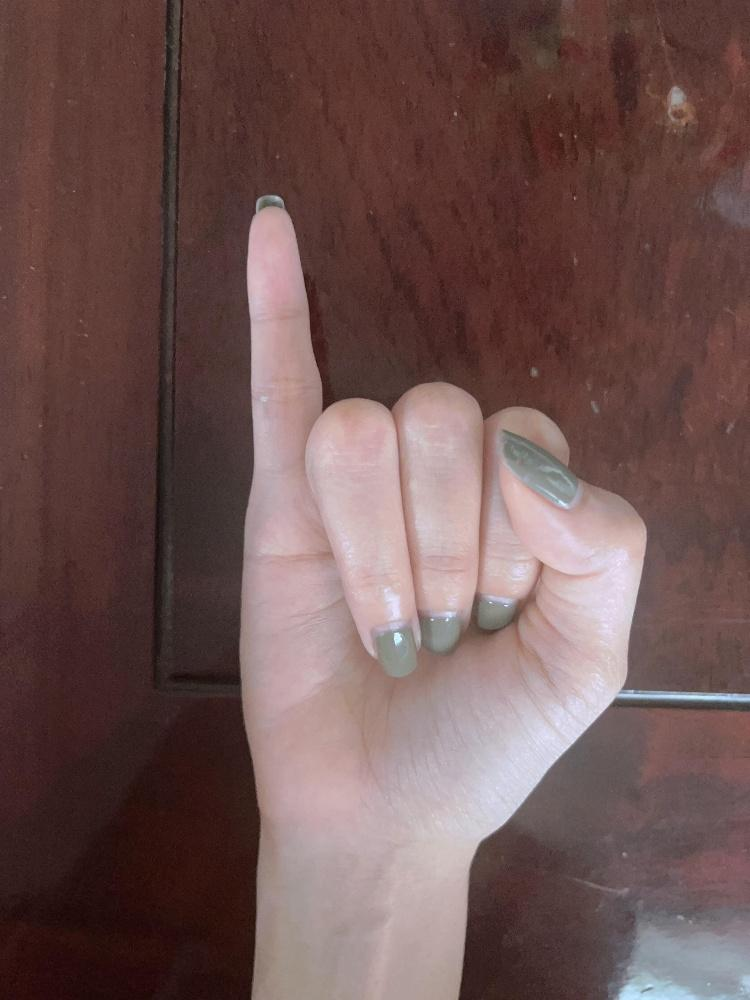i: (241, 185, 651, 828)
